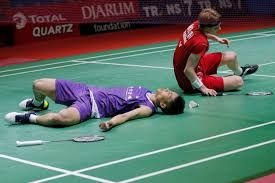falling: (167, 3, 262, 99)
